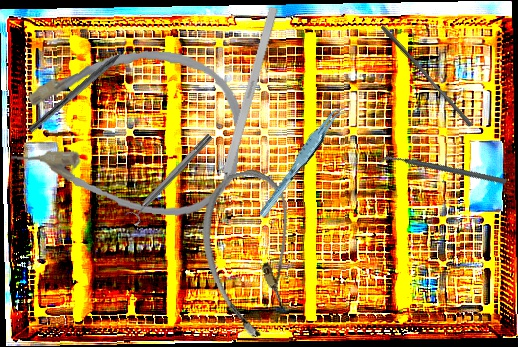Cannula: (7, 39, 247, 221), (187, 163, 318, 344)
Chopper: (378, 113, 508, 229), (27, 37, 143, 141)
Fixation Ring: (123, 129, 218, 228)
Hook Surgical: (210, 6, 279, 214)
Pusher: (376, 23, 477, 129)
Tissue Forceps: (246, 103, 358, 219)
